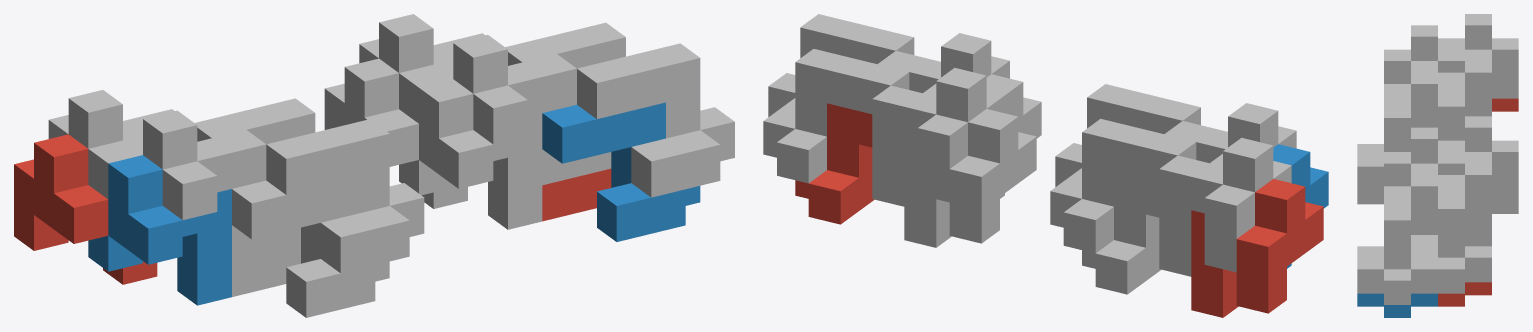
The model's file is tiling.obj.
The picture shows the model from 3 angles, left to right: view 1: azimuth 30°, elevation 25°; view 2: azimuth 150°, elevation 25°; view 3: azimuth 270°, elevation 25°; orthographic projection. The views are drawn at different scales.
Visible parts, largest first — view 1: copy_2_domain_4, copy_2_domain_8, copy_1_domain_2, copy_1_domain_6, copy_2_domain_6, copy_2_domain_2, copy_1_domain_4, copy_1_domain_8, copy_1_domain_1, copy_1_domain_5, copy_1_domain_3, copy_1_domain_7 (+4 smaller); view 2: copy_1_domain_3, copy_1_domain_7, copy_1_domain_5, copy_1_domain_1, copy_2_domain_3, copy_2_domain_7, copy_2_domain_5, copy_2_domain_1, copy_2_domain_8, copy_2_domain_4, copy_1_domain_8, copy_1_domain_4 (+2 smaller); view 3: copy_1_domain_7, copy_2_domain_8, copy_2_domain_7, copy_1_domain_3, copy_1_domain_8, copy_1_domain_4, copy_2_domain_4, copy_2_domain_3, copy_2_domain_6, copy_2_domain_5, copy_1_domain_1, copy_2_domain_2 (+1 smaller).
Boxes of the visible parts, x1,y1,x2,y2 form: copy_2_domain_4: [266, 119, 424, 273]; copy_2_domain_8: [577, 43, 734, 197]; copy_1_domain_2: [88, 155, 231, 305]; copy_1_domain_6: [399, 79, 542, 229]; copy_2_domain_6: [542, 102, 700, 241]; copy_2_domain_2: [232, 178, 389, 317]; copy_1_domain_4: [123, 110, 266, 260]; copy_1_domain_8: [434, 35, 576, 185]; copy_1_domain_1: [14, 134, 157, 284]; copy_1_domain_5: [324, 58, 467, 208]; copy_1_domain_3: [48, 90, 174, 198]; copy_1_domain_7: [359, 14, 484, 123]; copy_1_domain_3: [1159, 137, 1291, 276]; copy_1_domain_7: [872, 67, 1004, 206]; copy_1_domain_5: [904, 109, 1036, 247]; copy_1_domain_1: [1191, 179, 1323, 317]; copy_2_domain_3: [1050, 118, 1196, 253]; copy_2_domain_7: [763, 49, 909, 183]; copy_2_domain_5: [795, 103, 874, 224]; copy_2_domain_1: [1082, 173, 1160, 294]; copy_2_domain_8: [768, 14, 914, 116]; copy_2_domain_4: [1055, 84, 1200, 186]; copy_1_domain_8: [878, 33, 1009, 96]; copy_1_domain_4: [1164, 103, 1296, 166]; copy_1_domain_7: [1438, 116, 1518, 246]; copy_2_domain_8: [1357, 186, 1437, 304]; copy_2_domain_7: [1411, 175, 1491, 293]; copy_1_domain_3: [1438, 14, 1518, 116]; copy_1_domain_8: [1384, 127, 1464, 234]; copy_1_domain_4: [1384, 25, 1464, 127]; copy_2_domain_4: [1357, 84, 1410, 191]; copy_2_domain_3: [1438, 72, 1464, 140]; copy_2_domain_6: [1357, 293, 1437, 317]; copy_2_domain_5: [1438, 282, 1491, 306]; copy_1_domain_1: [1492, 98, 1518, 111]; copy_2_domain_2: [1357, 191, 1383, 204].
Size of the model in its own units: 18 by 5 by 6.
